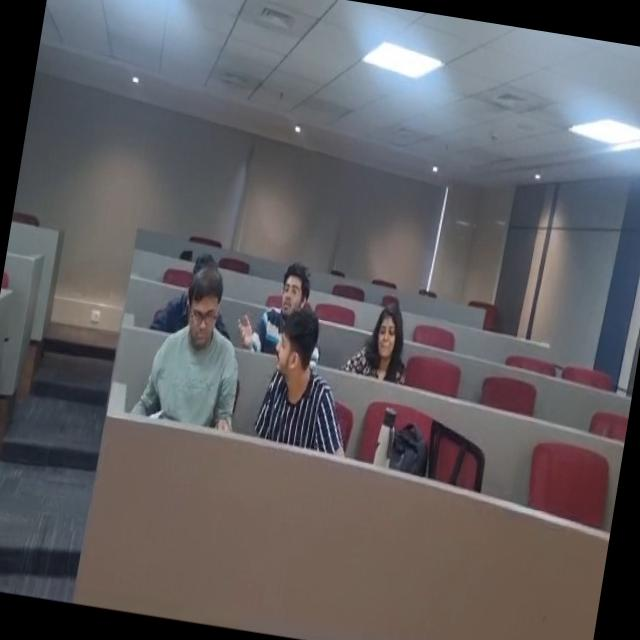cheating: (229, 241, 316, 359), (157, 236, 246, 340), (171, 266, 240, 396), (264, 292, 332, 414)
non-cheating: (358, 289, 418, 383)
